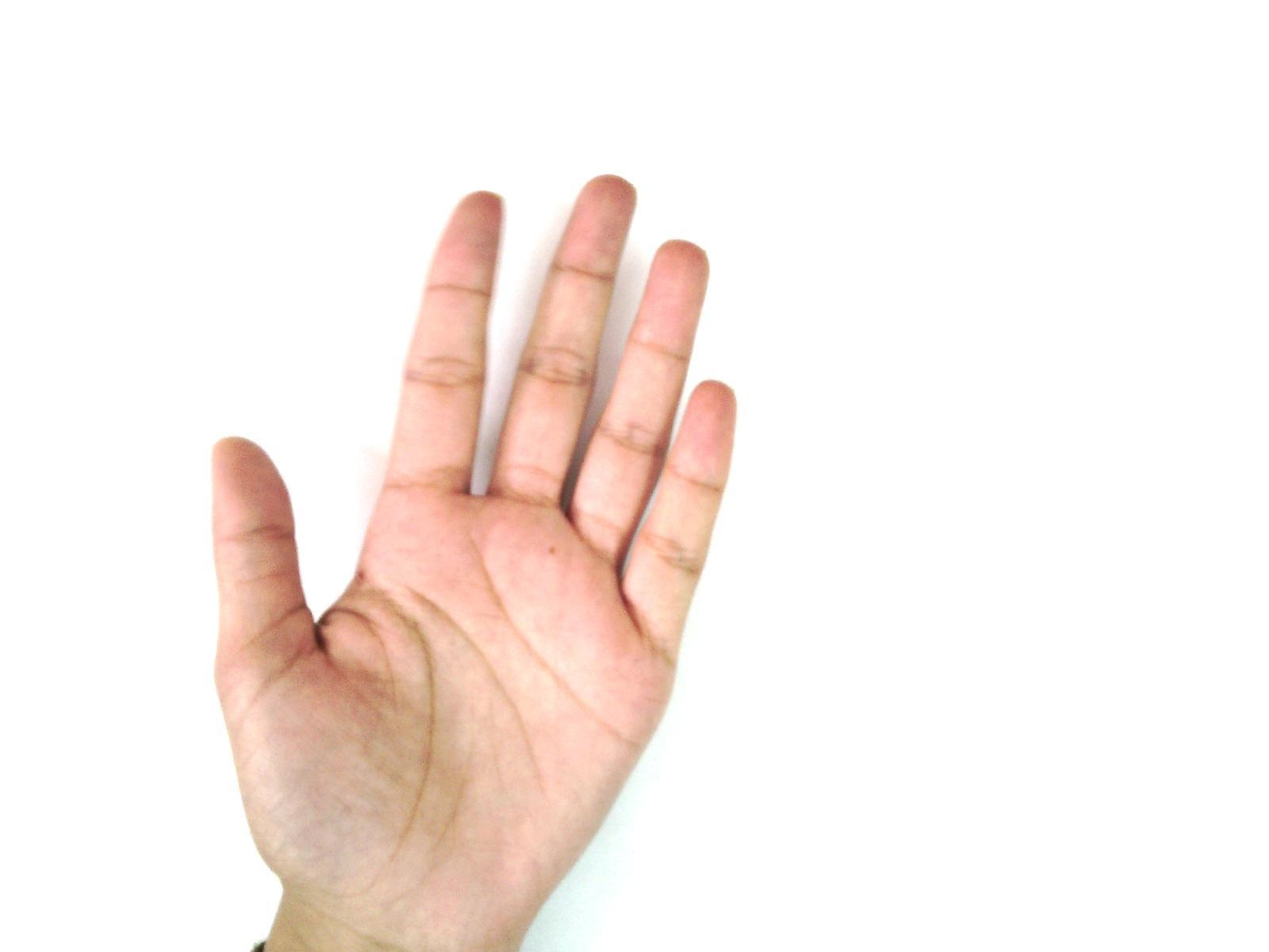open_palm: (207, 173, 741, 950)
